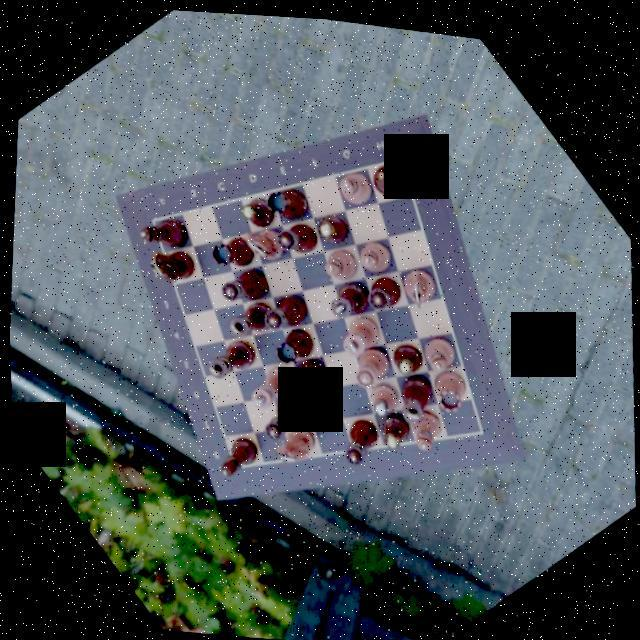chess-table-corners: (456, 406, 500, 452), (380, 135, 424, 180), (214, 440, 254, 480), (137, 200, 176, 240)
